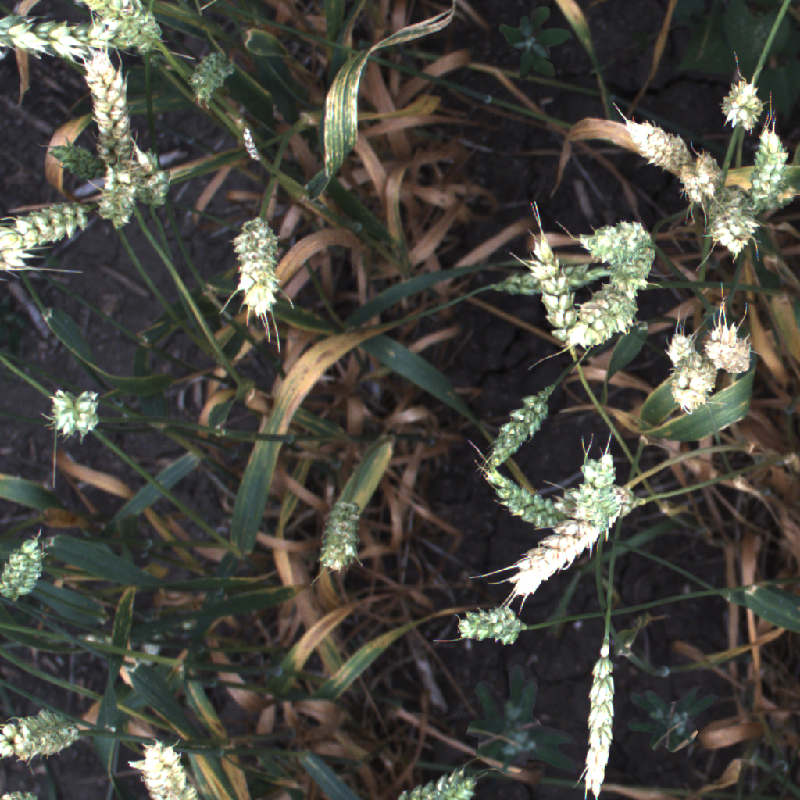spikelet: (501, 478, 635, 607), (471, 461, 607, 537), (518, 218, 592, 350), (1, 191, 90, 282), (478, 250, 622, 303), (82, 46, 140, 173), (578, 651, 625, 796), (483, 389, 564, 466), (78, 1, 177, 58), (558, 285, 635, 357), (123, 736, 209, 800), (446, 591, 532, 649), (1, 522, 57, 609), (229, 217, 280, 312), (619, 118, 697, 175), (3, 706, 80, 758), (1, 14, 93, 57), (711, 184, 765, 255), (316, 497, 361, 572), (596, 248, 658, 300), (385, 764, 478, 798), (753, 125, 789, 207), (123, 149, 176, 203), (576, 221, 654, 255), (46, 385, 96, 437), (575, 450, 614, 516), (671, 356, 716, 412), (677, 146, 720, 203), (703, 322, 754, 368), (716, 82, 767, 128), (187, 52, 235, 100), (103, 167, 139, 223), (46, 144, 96, 180), (664, 328, 702, 367), (242, 128, 264, 162)
weed: (459, 657, 595, 786), (612, 651, 727, 767), (499, 6, 571, 80)
